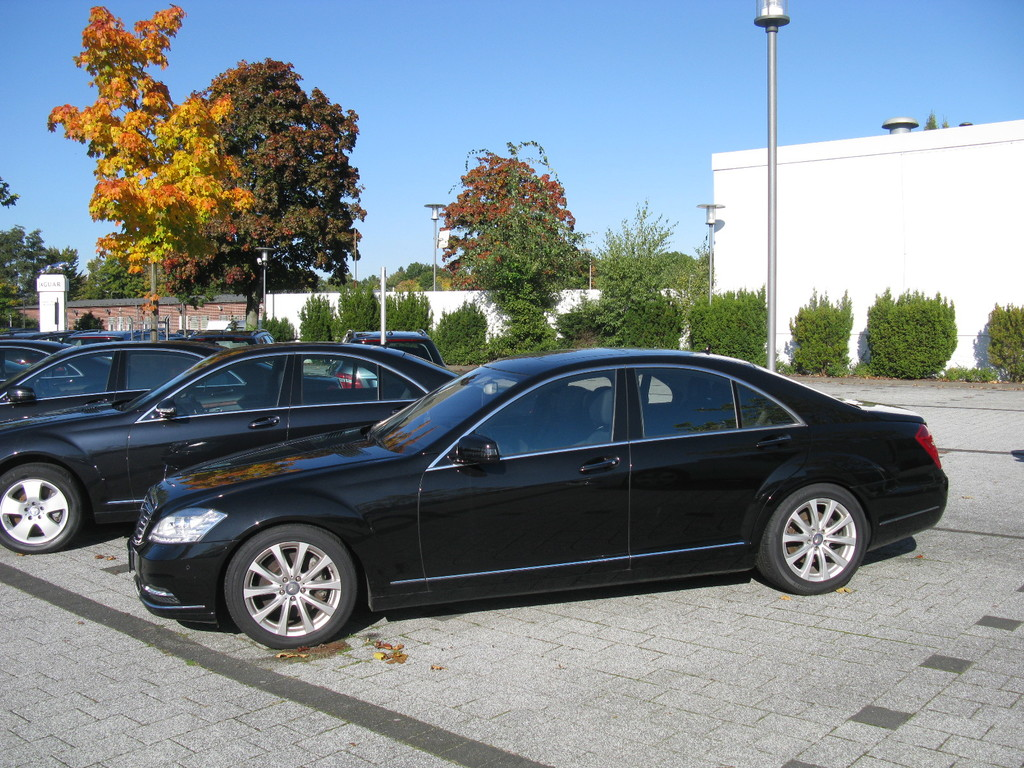Car: (101, 349, 965, 652), (0, 321, 453, 552)
